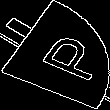P_NW: (13, 27, 97, 83)
